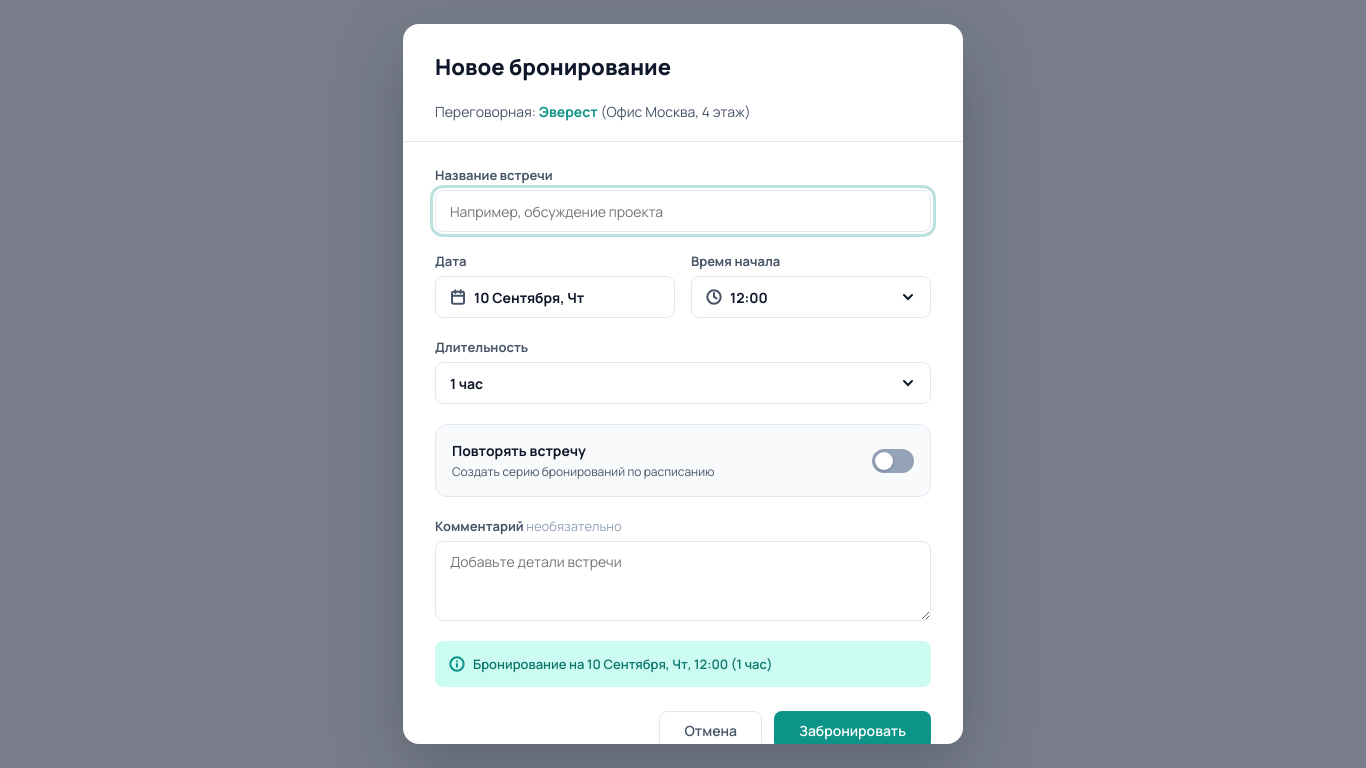
Scenario: BookingDialog › validates a required title without sending a request
The width and height of the screenshot is (1366, 768).
Click the button "Забронировать": (852, 730) [774,711,931,750]
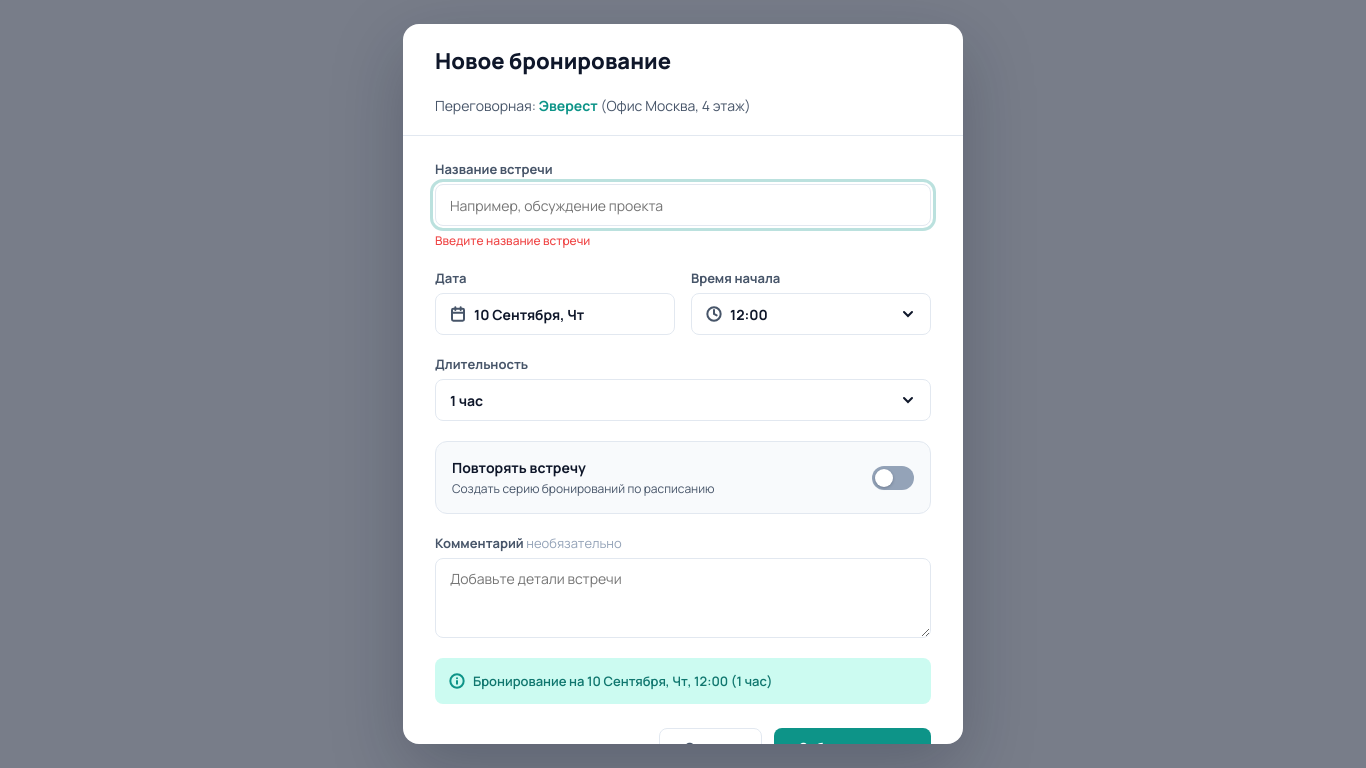
Expected: the text "Введите название встречи" is shown, [435,232,590,249]
